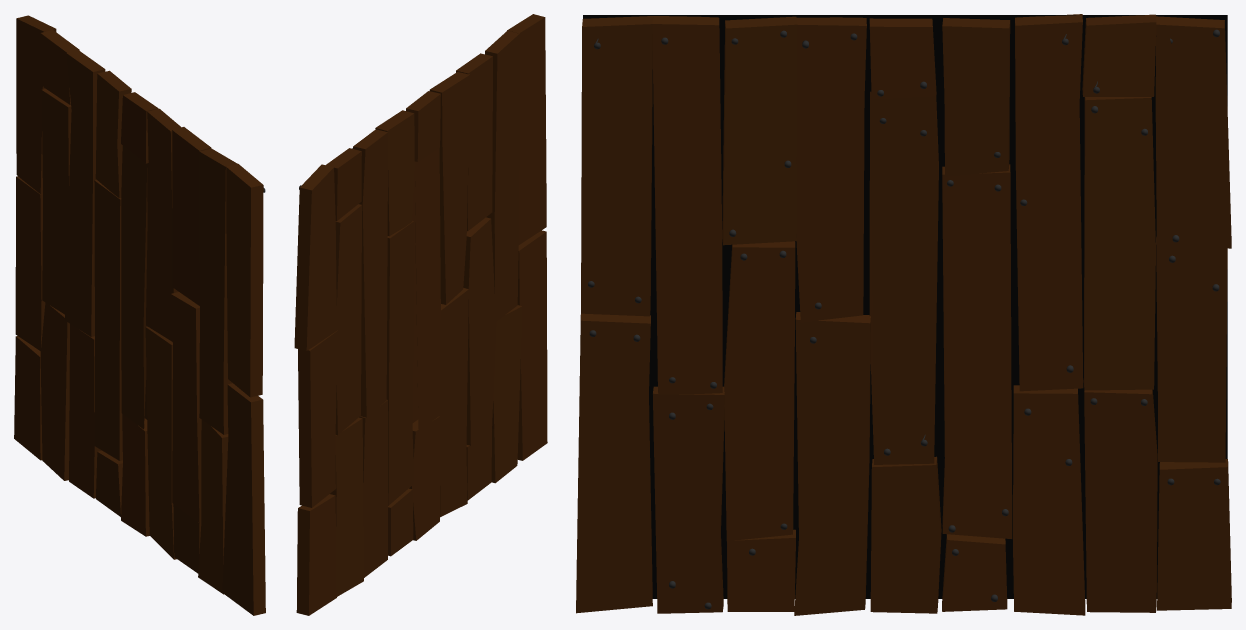
The model's file is Plankvägg.fbx.
The picture shows the model from 3 angles, left to right: view 1: azimuth 30°, elevation 25°; view 2: azimuth 150°, elevation 25°; view 3: azimuth 270°, elevation 25°; orthographic projection. The views are drawn at different scales.
Visible parts, largest first — view 1: Planks; view 2: Planks; view 3: Planks, Plane, Cylinder.
Boxes of the visible parts, box(x1,y1,x2,y2) form: Planks: box(14, 15, 265, 615); Planks: box(294, 14, 547, 615); Planks: box(576, 14, 1231, 615); Plane: box(583, 15, 1227, 598); Cylinder: box(588, 29, 1220, 609).
Size of the model in its own units: 37.44 by 618 by 620.
